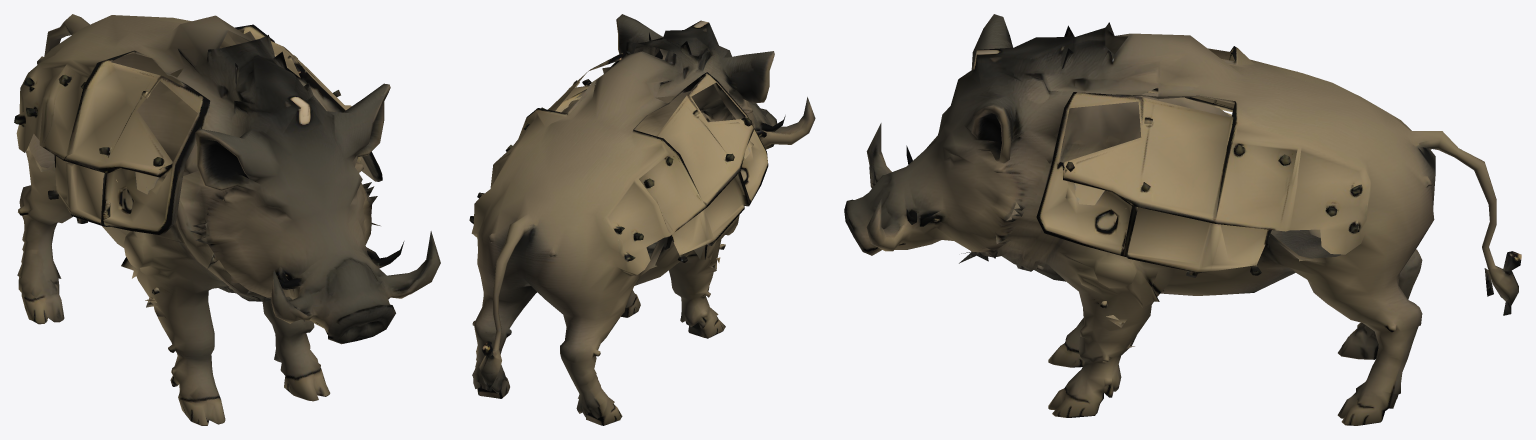
The model's file is feral_boar.glb.
3 views of the same model, side by side, from view 1: azimuth 30°, elevation 25°; view 2: azimuth 150°, elevation 25°; view 3: azimuth 270°, elevation 25° (orthographic). The views are drawn at different scales.
Visible parts, largest first — view 1: base_model_path; view 2: base_model_path; view 3: base_model_path.
Part boxes in pixels (x1,y1,x2,y2): base_model_path: (14, 14, 440, 425); base_model_path: (469, 14, 815, 425); base_model_path: (844, 14, 1521, 425).
Size of the model in its own units: 0.4403 by 0.5733 by 0.9999.
1 material, 1 textured.
